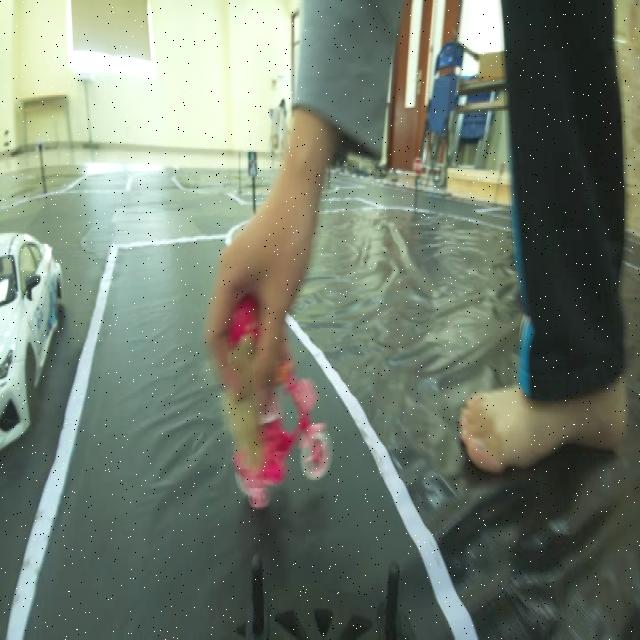pedestrian: (211, 306, 327, 504)
